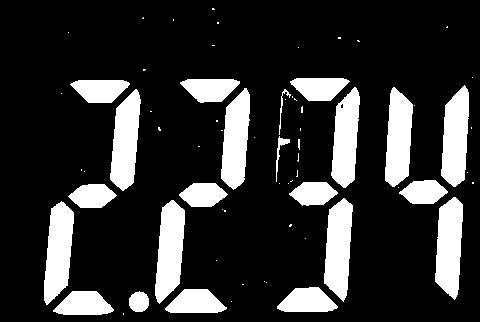2: (42, 77, 146, 319), (152, 77, 253, 317)
4: (382, 79, 472, 313)
9: (272, 76, 365, 316)
dot: (127, 289, 151, 313)
